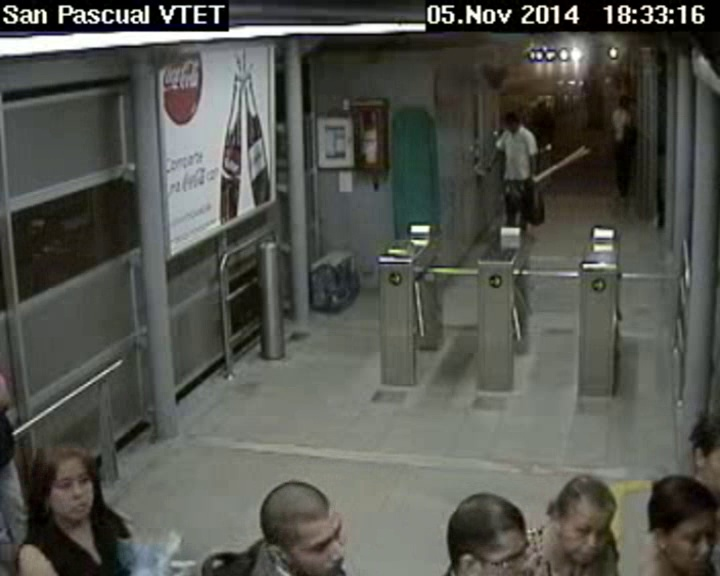person: (252, 475, 358, 576), (436, 487, 534, 576), (644, 468, 720, 574), (546, 462, 621, 560), (26, 440, 111, 523), (671, 397, 720, 485), (503, 111, 521, 136), (614, 91, 631, 111)
